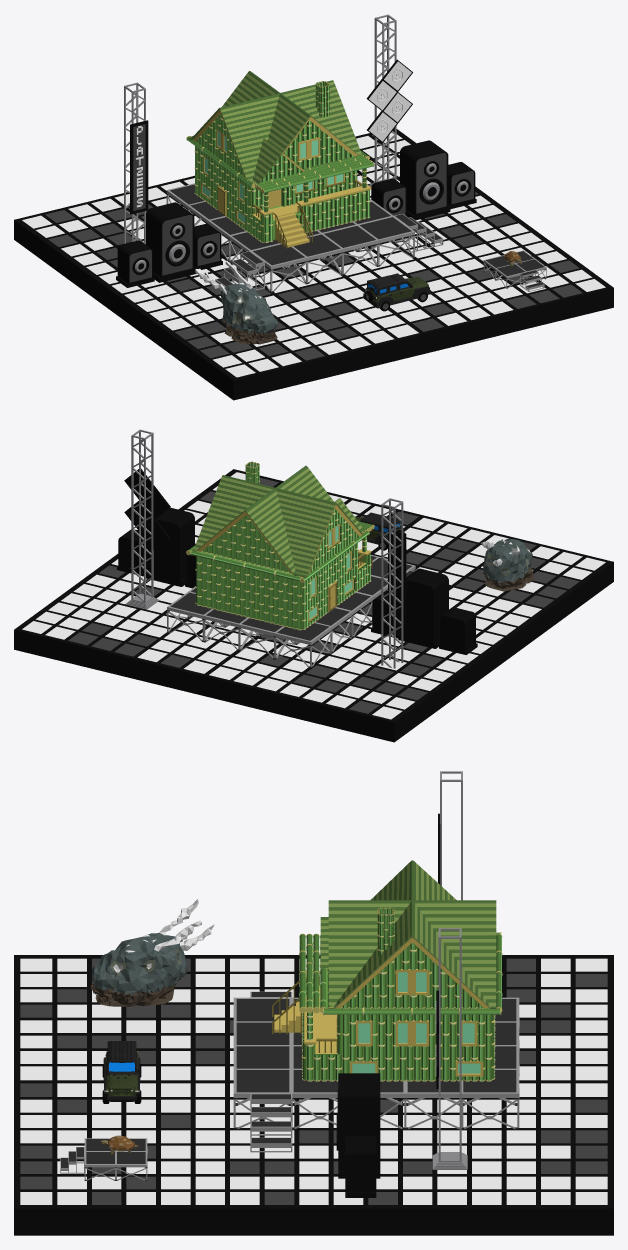
3 views of the same model, one above another, from view 1: azimuth 30°, elevation 25°; view 2: azimuth 150°, elevation 25°; view 3: azimuth 270°, elevation 25° (orthographic). The views are drawn at different scales.
Parts seen in each view (by area): view 1: Cube.008, Cube.1327, OBJRANDOM_METEORITE, VEHICLES_JEEP; view 2: Cube.008, Cube.1327, OBJRANDOM_METEORITE, VEHICLES_JEEP; view 3: Cube.008, Cube.1327, OBJRANDOM_METEORITE, VEHICLES_JEEP.
Boxes of the visible parts, x1=… form: Cube.008: x1=14, y1=14, x2=613, y2=400; Cube.1327: x1=186, y1=71, x2=374, y2=248; OBJRANDOM_METEORITE: x1=195, y1=261, x2=277, y2=344; VEHICLES_JEEP: x1=363, y1=273, x2=430, y2=311; Cube.008: x1=14, y1=429, x2=613, y2=742; Cube.1327: x1=186, y1=461, x2=374, y2=630; OBJRANDOM_METEORITE: x1=481, y1=538, x2=534, y2=591; VEHICLES_JEEP: x1=354, y1=512, x2=404, y2=550; Cube.008: x1=14, y1=771, x2=613, y2=1235; Cube.1327: x1=272, y1=860, x2=502, y2=1081; OBJRANDOM_METEORITE: x1=90, y1=899, x2=214, y2=1006; VEHICLES_JEEP: x1=102, y1=1041, x2=141, y2=1103.
Size of the model in its own units: 4000 by 2073 by 4000.
Materials: 36 (2 with a texture image).
